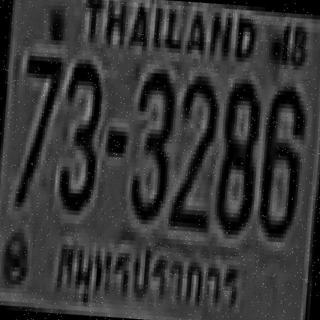N02: (168, 70, 217, 228)
N03: (128, 63, 174, 221), (56, 58, 102, 212)
N06: (256, 81, 305, 234)
N07: (14, 51, 63, 204)
N08: (213, 73, 260, 231)
P57: (51, 225, 242, 320)
